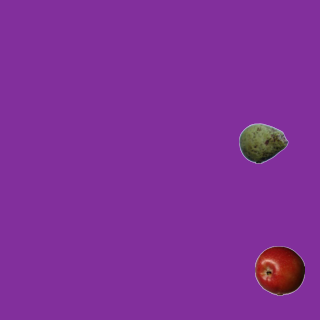Apple Braeburn: (254, 245, 304, 295)
Pear Stone: (238, 118, 288, 168)
